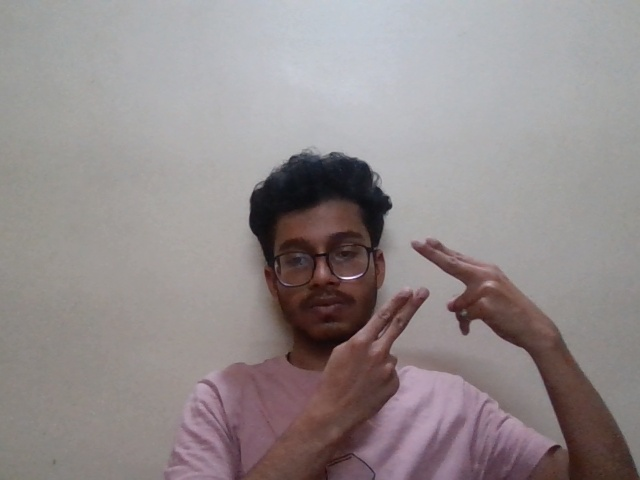my-name-is: (306, 230, 545, 430)
